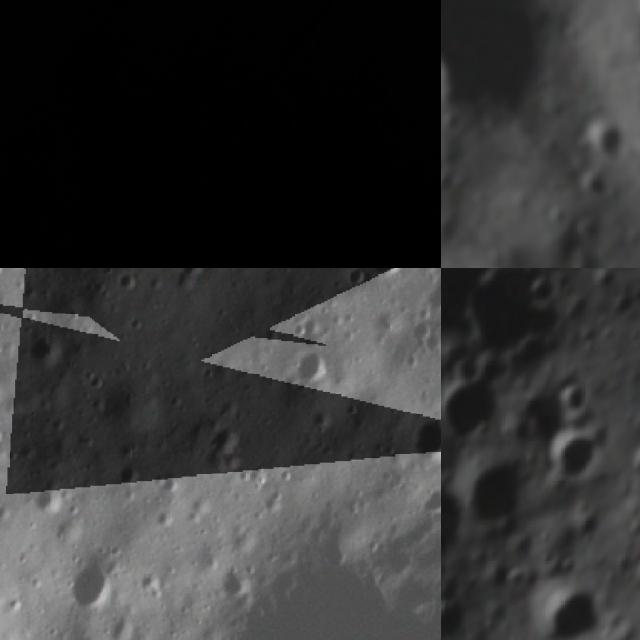crater: (177, 533, 441, 640), (441, 0, 561, 106), (445, 437, 541, 544), (536, 409, 620, 504), (441, 359, 514, 459), (520, 568, 612, 640), (96, 373, 162, 442), (441, 463, 479, 571), (63, 553, 123, 620), (543, 367, 602, 423), (441, 282, 472, 379), (586, 111, 634, 168), (199, 418, 248, 469), (289, 341, 337, 387), (404, 409, 441, 468), (24, 326, 65, 372), (574, 164, 613, 206), (97, 605, 143, 640), (52, 510, 92, 550), (216, 563, 254, 604), (290, 307, 328, 345), (111, 456, 145, 492), (182, 486, 216, 522), (33, 479, 65, 517), (150, 464, 183, 500), (416, 271, 441, 317), (136, 565, 170, 597), (304, 403, 334, 439), (624, 433, 640, 496), (416, 482, 441, 519), (420, 322, 441, 358), (114, 268, 140, 296), (0, 369, 15, 415), (345, 268, 371, 294), (374, 268, 406, 285), (180, 268, 212, 283), (278, 466, 295, 487), (63, 268, 97, 278), (37, 268, 71, 276), (0, 427, 6, 450)
